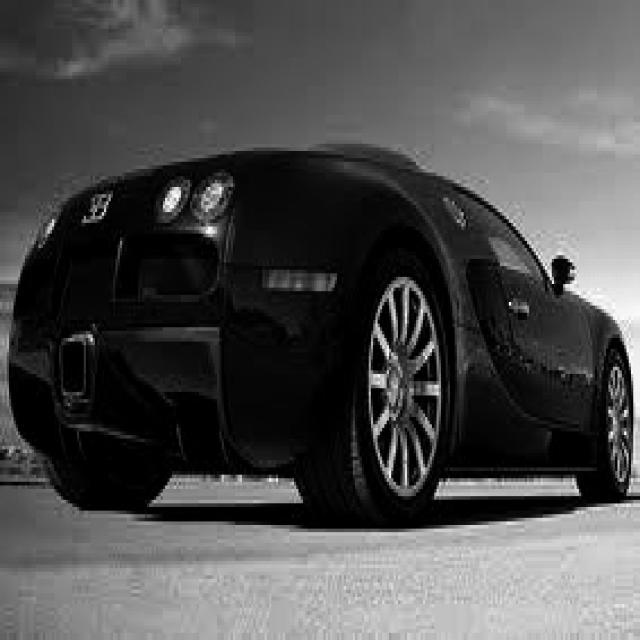car: (7, 140, 633, 525)
